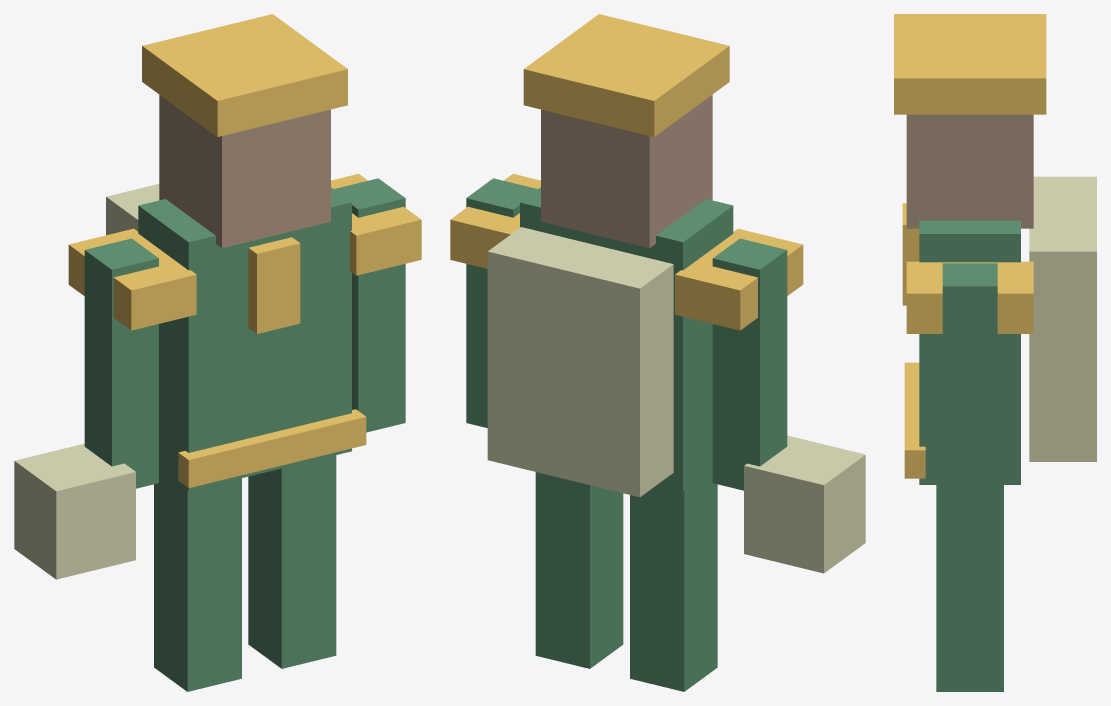
Rendered from 15_juno_starfall_specialist_near_verdant.glb.
3 views of the same model, side by side, from view 1: azimuth 30°, elevation 25°; view 2: azimuth 150°, elevation 25°; view 3: azimuth 270°, elevation 25° (orthographic).
Parts seen in each view (by area): view 1: Juno Starfall, Specialist near Verdant; view 2: Juno Starfall, Specialist near Verdant; view 3: Juno Starfall, Specialist near Verdant.
Part boxes in pixels (box(x1,y1,x2,y2)): Juno Starfall, Specialist near Verdant: box(14, 14, 421, 691); Juno Starfall, Specialist near Verdant: box(450, 14, 865, 691); Juno Starfall, Specialist near Verdant: box(894, 14, 1096, 691).
Bounding box in the file's own units: 1.03 × 1.65 × 0.4983.
